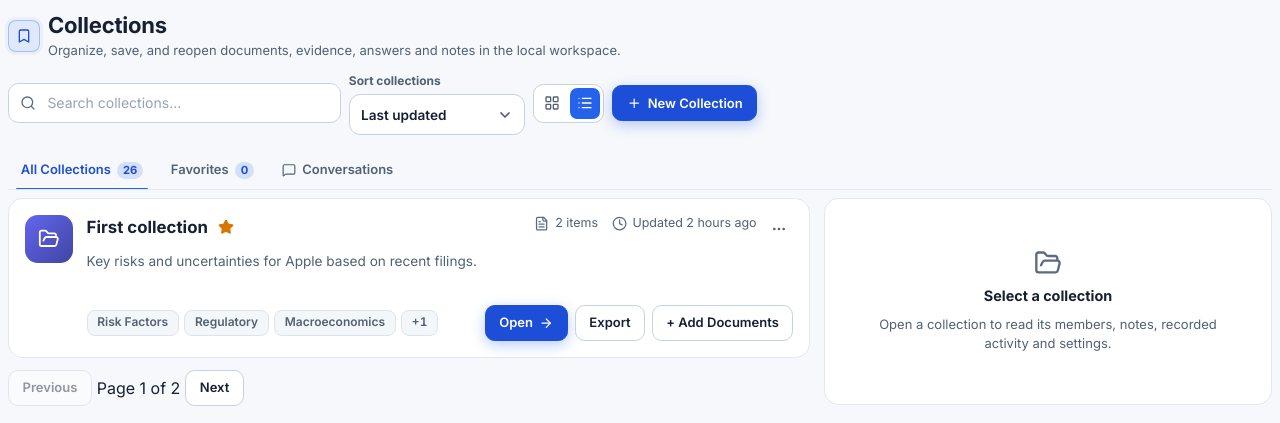
it: CollectionsWorkspace › pages forward and back without advancing beyond the last page
Expected: the heading "First collection" is shown, [87,215,238,240]
Expected: the button with aria-label "Previous page" is disabled, [8,370,92,406]
Click the button with aria-label "Next page": (215, 388) [185,370,244,406]
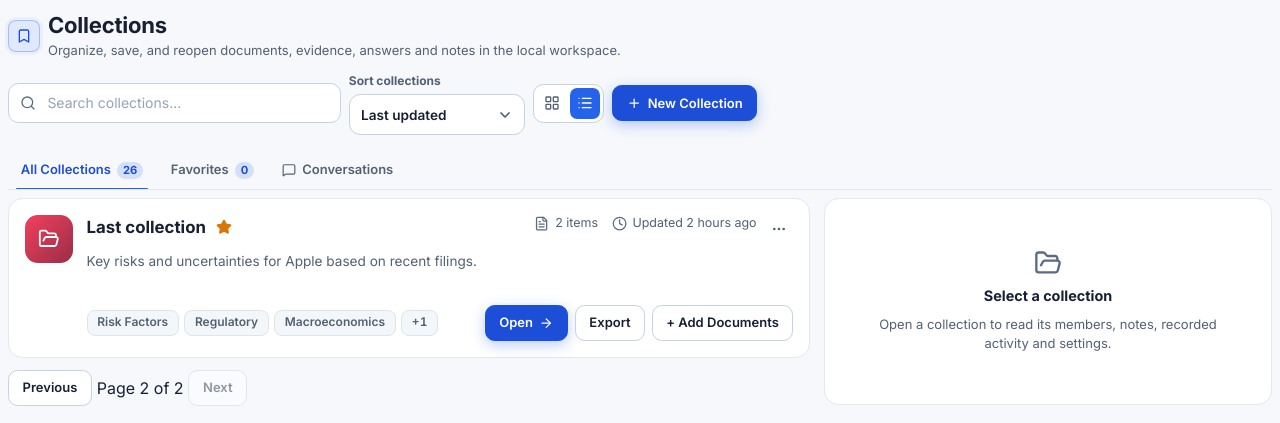
Expected: the heading "Last collection" is shown, [87,215,236,240]
Expected: the button "First collection" is gone
Expected: the button with aria-label "Next page" is disabled, [188,370,247,406]
Click the button with aria-label "Previous page": (50, 388) [8,370,92,406]
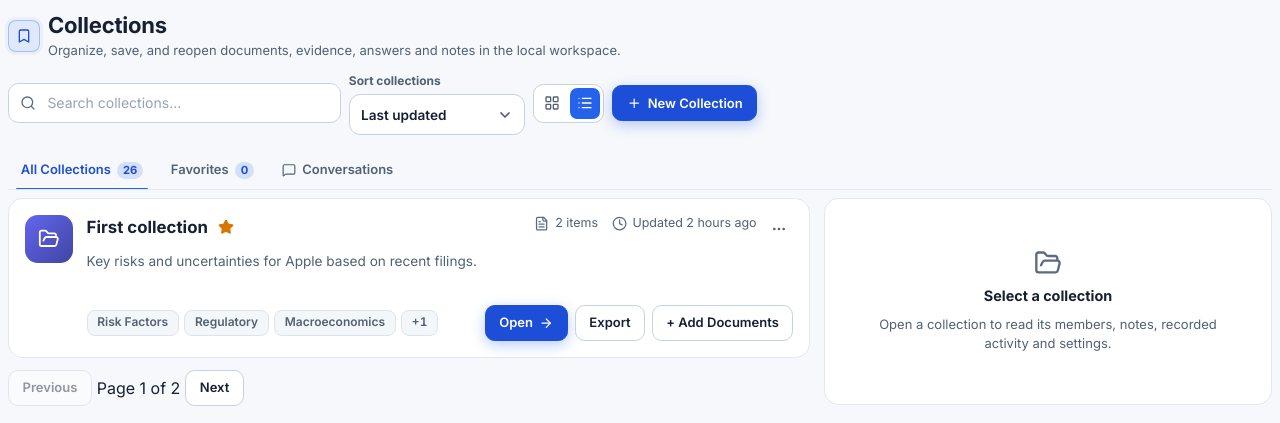
Expected: the heading "First collection" is shown, [87,215,238,240]
